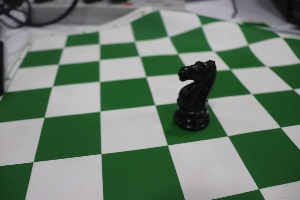black_horse: (162, 39, 218, 138)
